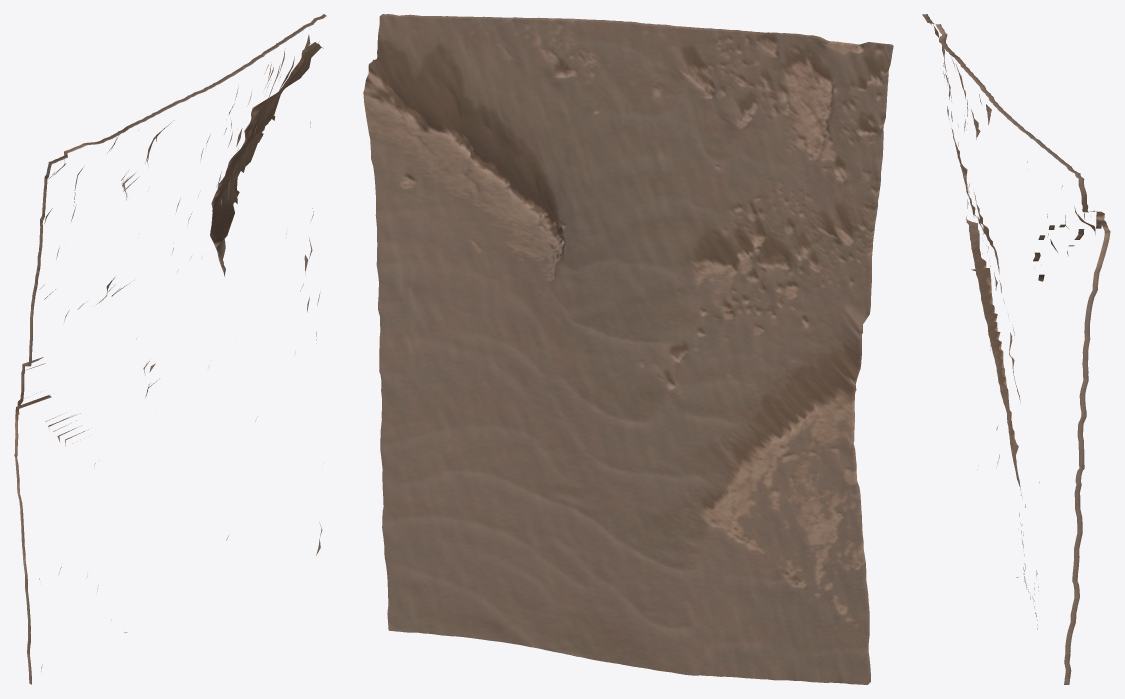
The picture shows the model from 3 angles, left to right: view 1: azimuth 30°, elevation 25°; view 2: azimuth 150°, elevation 25°; view 3: azimuth 270°, elevation 25°; orthographic projection. The views are drawn at different scales.
Bounding box in the file's own units: 0.7209 × 1.03 × 0.3471.
Materials: 1 (1 with a texture image).
